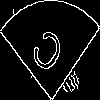C: (24, 25, 66, 84)
